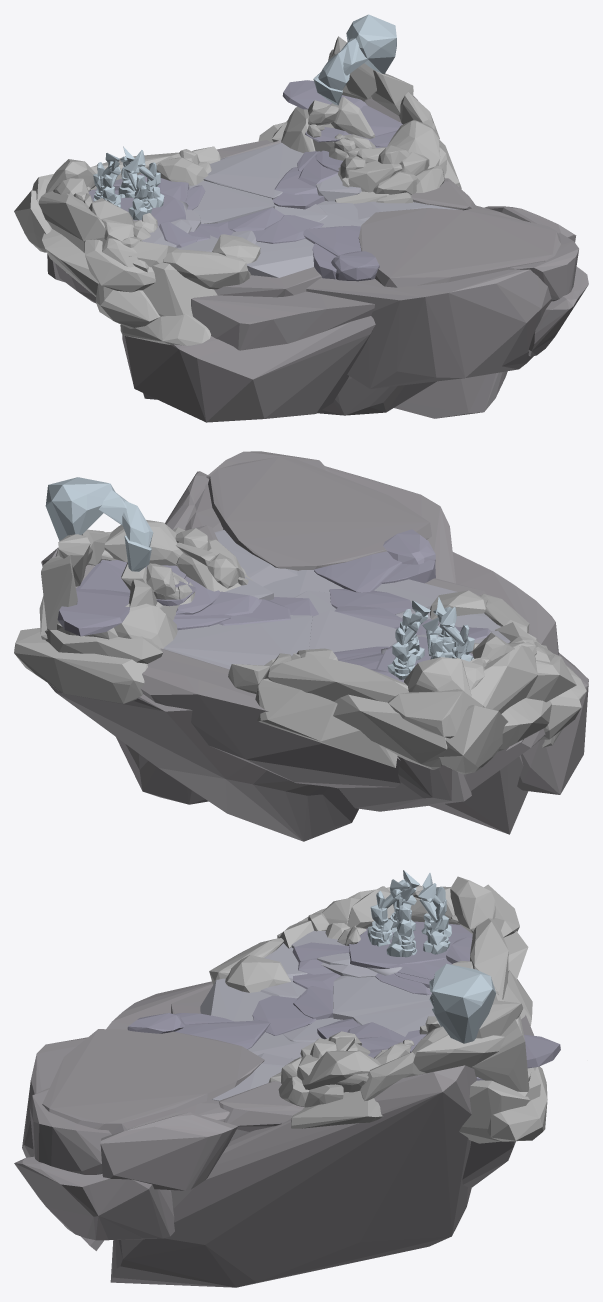
The model's file is UpdatedWorld_Grouped.fbx.
The picture shows the model from 3 angles, top to bottom: view 1: azimuth 30°, elevation 25°; view 2: azimuth 150°, elevation 25°; view 3: azimuth 270°, elevation 25°; orthographic projection. The views are drawn at different scales.
Parts seen in each view (by area): view 1: s.0819, s.0820, s.0807, Path, s.1059, s.0818, s.1175, s.0917, s.0817, s.0531, s.0805, s.0848 (+35 smaller); view 2: s.0807, s.0822, Path, s.0805, s.1167, s.1175, s.1002, s.0530, s.0984, s.0806, s.0820, s.0817 (+45 smaller); view 3: s.0818, s.0807, Path, s.1031, s.0811, s.0812, s.0605, s.1164, s.1033, s.0306, s.0292, s.0317 (+33 smaller).
Part boxes in pixels (x1,y1,x2,y2): s.0819: (306,269,551,388); s.0820: (122,316,375,422); s.0807: (358,208,560,287); Path: (89,80,402,247); s.1059: (191,291,374,350); s.0818: (364,96,507,418); s.1175: (203,142,303,199); s.0917: (163,249,249,289); s.0817: (143,376,436,415); s.0531: (38,191,105,252); s.0805: (66,140,321,297); s.0848: (143,262,217,316); s.0807: (208,457,431,570); s.0822: (48,648,358,841); Path: (57,559,490,682); s.0805: (140,578,523,788); s.1167: (14,627,147,703); s.1175: (163,615,312,669); s.1002: (255,678,397,767); s.0530: (268,655,408,702); s.0984: (333,694,447,769); s.0806: (338,756,471,811); s.0820: (517,653,588,794); s.0817: (429,755,528,834); s.0818: (110,1065,476,1287); s.0807: (42,1029,264,1134); Path: (252,921,560,1080); s.1031: (14,1156,174,1240); s.0811: (100,1112,237,1190); s.0812: (29,1088,111,1174); s.0605: (431,963,496,1043); s.1164: (333,975,431,1019); s.1033: (218,1081,304,1131); s.0306: (471,1015,529,1091); s.0292: (459,1080,529,1143); s.0317: (413,1034,505,1073).
Size of the model in its own units: 6687 by 4659 by 6851.
